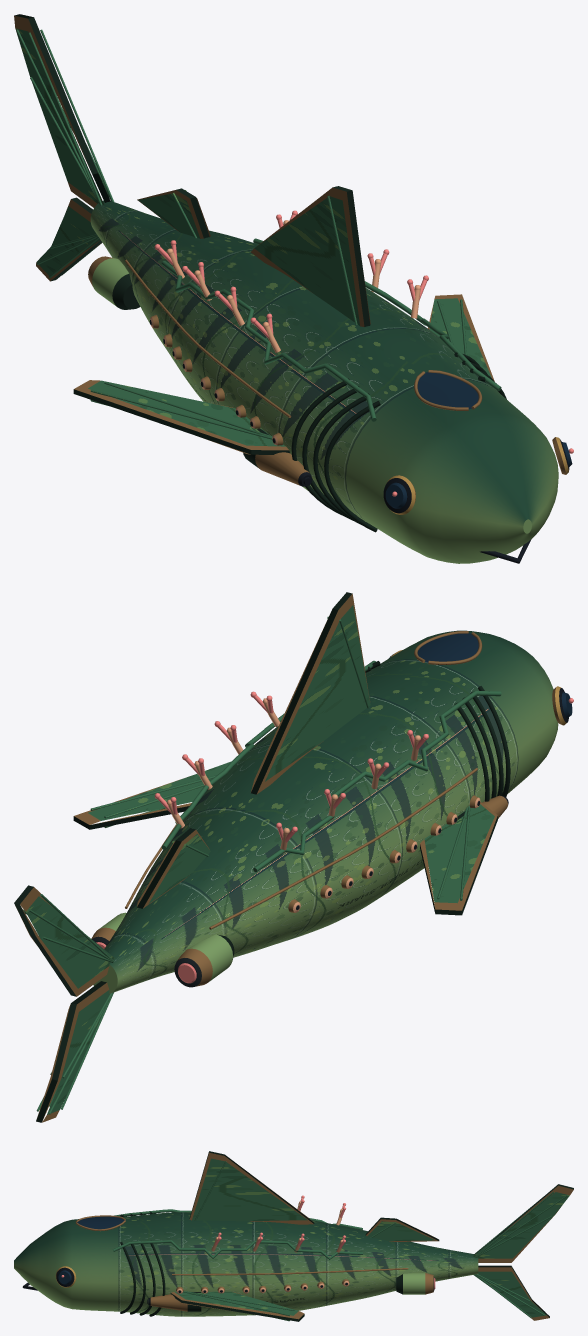
3 renders of one model, top to bottom at view 1: azimuth 30°, elevation 25°; view 2: azimuth 150°, elevation 25°; view 3: azimuth 270°, elevation 25°, orthographic. The views are drawn at different scales.
Parts seen in each view (by area): view 1: tiger_shark_hull; view 2: tiger_shark_hull; view 3: tiger_shark_hull.
Boxes of the visible parts, x1,y1,x2,y2 form: tiger_shark_hull: [14, 14, 573, 563]; tiger_shark_hull: [14, 592, 573, 1122]; tiger_shark_hull: [14, 1151, 573, 1321].
Bounding box in the file's own units: 35.12 × 26.52 × 80.
Materials: 1 (1 with a texture image).
